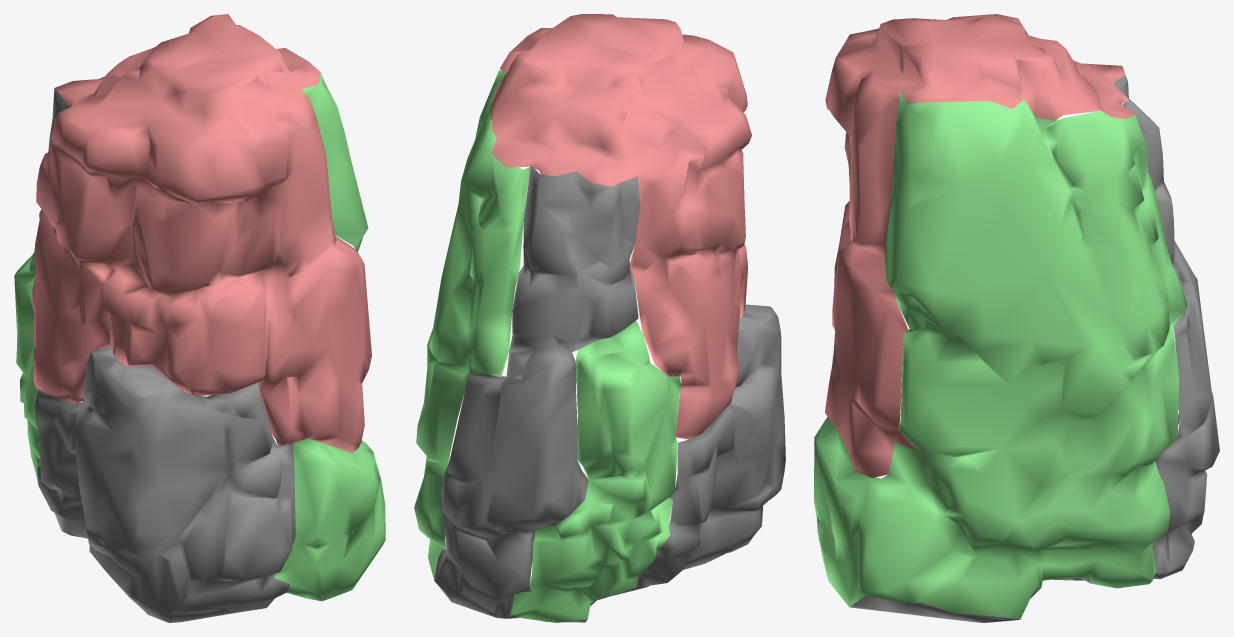
The model's file is Big_Stone_02A.gltf.
3 views of the same model, side by side, from view 1: azimuth 30°, elevation 25°; view 2: azimuth 150°, elevation 25°; view 3: azimuth 270°, elevation 25° (orthographic). The views are drawn at different scales.
Visible parts, largest first — view 1: Big_Stone_02A; view 2: Big_Stone_02A; view 3: Big_Stone_02A.
Part boxes in pixels (bbox=[...]): Big_Stone_02A: bbox=[14, 14, 385, 622]; Big_Stone_02A: bbox=[414, 14, 785, 622]; Big_Stone_02A: bbox=[814, 14, 1219, 622].
Size of the model in its own units: 3.96 by 7.01 by 4.81.
